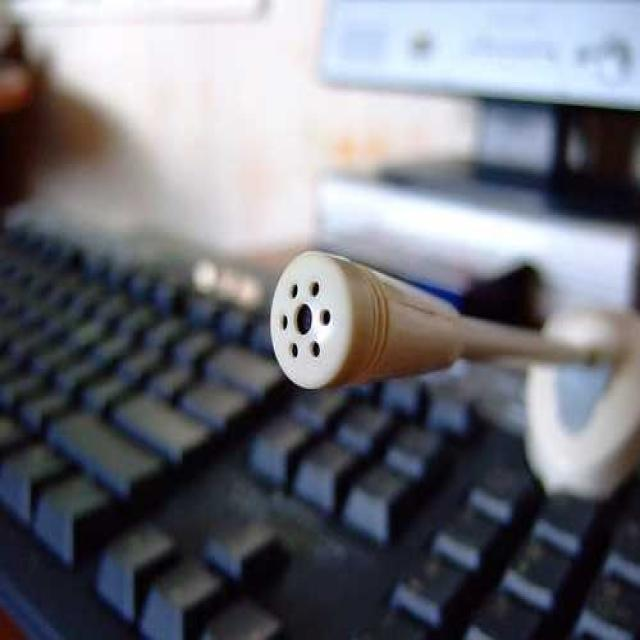microphone: (260, 239, 500, 391)
